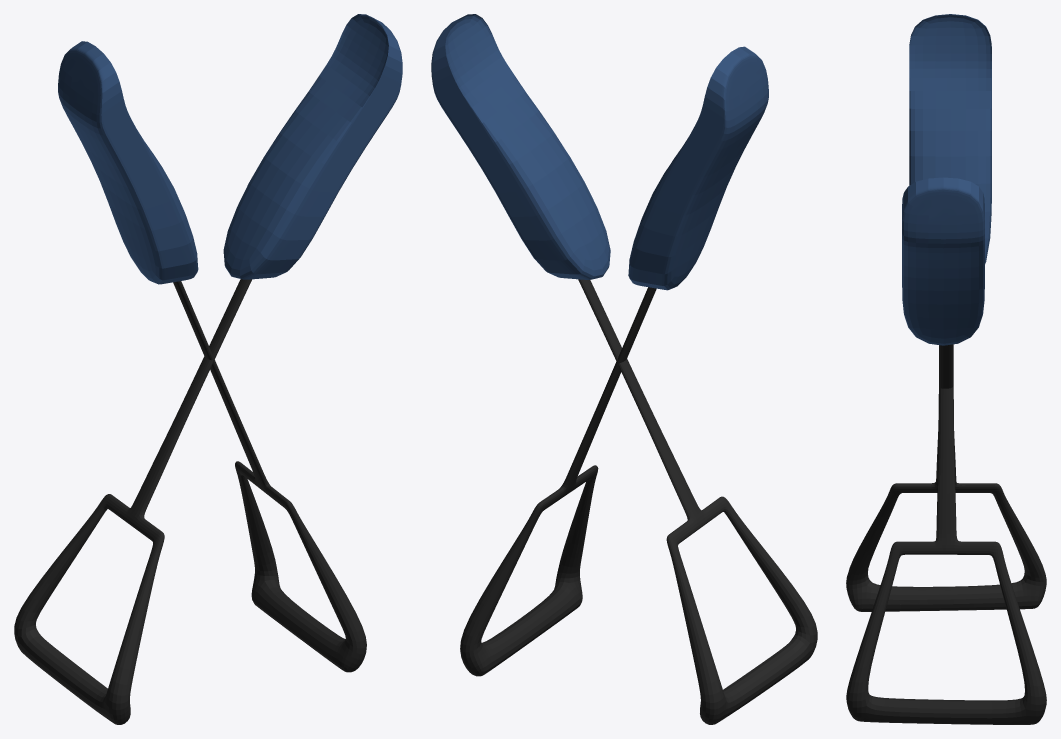
The model's file is Pihdit.fbx.
The picture shows the model from 3 angles, left to right: view 1: azimuth 30°, elevation 25°; view 2: azimuth 150°, elevation 25°; view 3: azimuth 270°, elevation 25°; orthographic projection. The views are drawn at different scales.
Parts seen in each view (by area): view 1: pihdit.001, pihdit.002, pihdit.004, pihdit.003; view 2: pihdit.001, pihdit.002, pihdit.004, pihdit.003; view 3: pihdit.002, pihdit.003, pihdit.001, pihdit.004.
Part boxes in pixels (bbox=[...]): pihdit.001: bbox=[223, 14, 402, 279]; pihdit.002: bbox=[58, 41, 198, 284]; pihdit.004: bbox=[14, 279, 251, 724]; pihdit.003: bbox=[173, 281, 366, 672]; pihdit.001: bbox=[431, 14, 610, 279]; pihdit.002: bbox=[628, 46, 768, 290]; pihdit.004: bbox=[578, 279, 817, 724]; pihdit.003: bbox=[460, 287, 656, 676]; pihdit.002: bbox=[909, 14, 991, 263]; pihdit.003: bbox=[846, 344, 1046, 724]; pihdit.001: bbox=[902, 177, 984, 345]; pihdit.004: bbox=[846, 344, 1046, 611].
Bounding box in the file's own units: 8.51 × 16.32 × 4.85.
